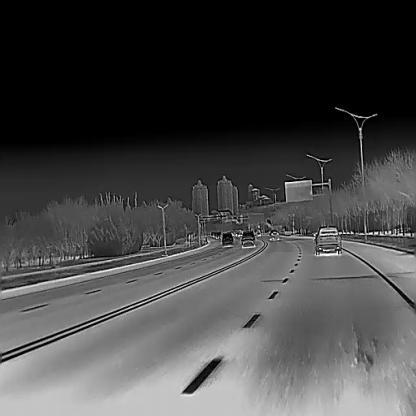car: (313, 224, 341, 255), (240, 230, 255, 248), (221, 232, 233, 246), (269, 229, 280, 240)
